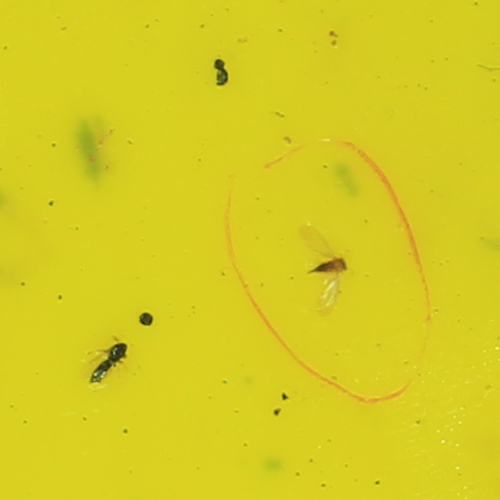psylla: (316, 253, 349, 277)
